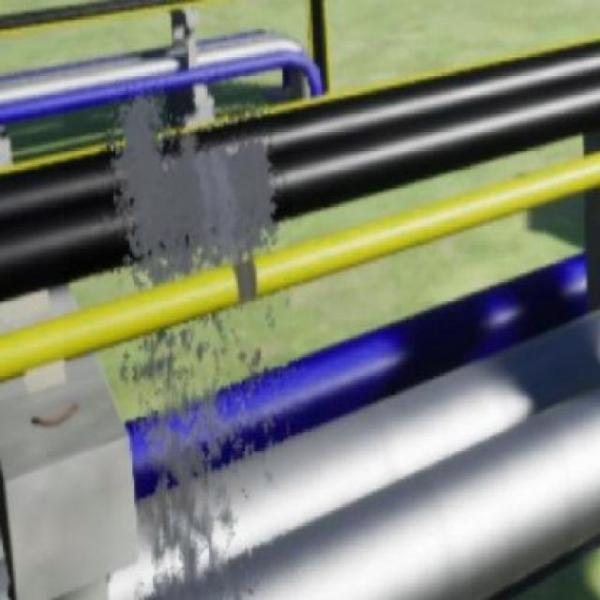gas: (64, 54, 292, 380)
